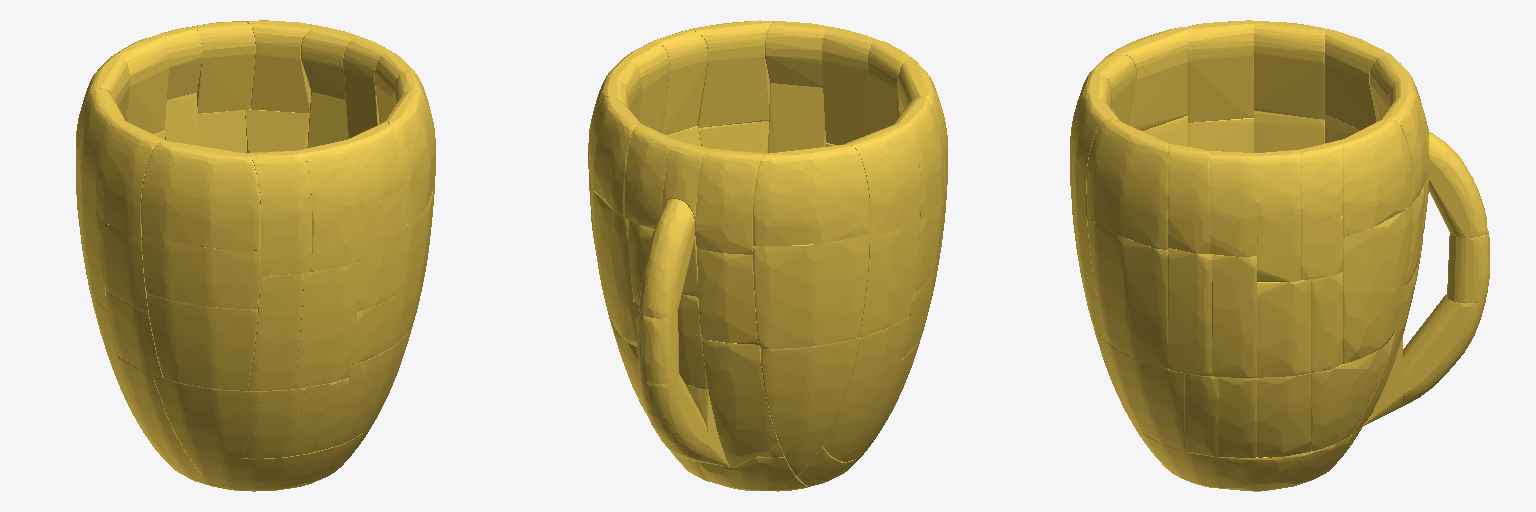
The robot description file, URDF, robot "587.urdf":
<?xml version="1.0" ?>
<robot name="587.urdf">
	<link name="baseLink">
		<inertial>
			<origin rpy="0 0 0" xyz="0 0 0"/>
				<mass value="0.1"/>
				<inertia ixx="6e-5" ixy="0" ixz="0" iyy="6e-5" iyz="0" izz="6e-5"/>
		</inertial>
		<visual>
			<origin rpy="0 0 0" xyz="0 0 0"/>
			<geometry>
				<mesh filename="2_decom_wt.obj" scale="0.92 0.92 0.88"/>
			</geometry>
			<material name="yellow">
				<color rgba="0.98 0.84 0.35 1"/>
			</material>
		</visual>
		<collision>
			<origin rpy="0 0 0" xyz="0 0 0"/>
			<geometry>
				<mesh filename="2_decom_wt.obj" scale="0.92 0.92 0.88"/>
			</geometry>
		</collision>
	</link>
</robot>

--- Facts derived from the render (not from the file) ---
3 views of the same robot in one strip: view 1: azimuth 30°, elevation 25°; view 2: azimuth 150°, elevation 25°; view 3: azimuth 270°, elevation 25° (orthographic).
Model 587.urdf with 1 links and 0 joints (none), rooted at baseLink, posed all joints at 0.
Links seen in each view (by area): view 1: baseLink; view 2: baseLink; view 3: baseLink.
Link boxes in pixels (x1=…): baseLink: x1=76, y1=20, x2=435, y2=491; baseLink: x1=588, y1=20, x2=947, y2=491; baseLink: x1=1070, y1=20, x2=1489, y2=491.
Size in the robot's own frame: 0.0803 by 0.0939 by 0.0908 metres.
Meshes: 1 distinct files referenced, 1 mesh visuals loaded (1 OBJ).